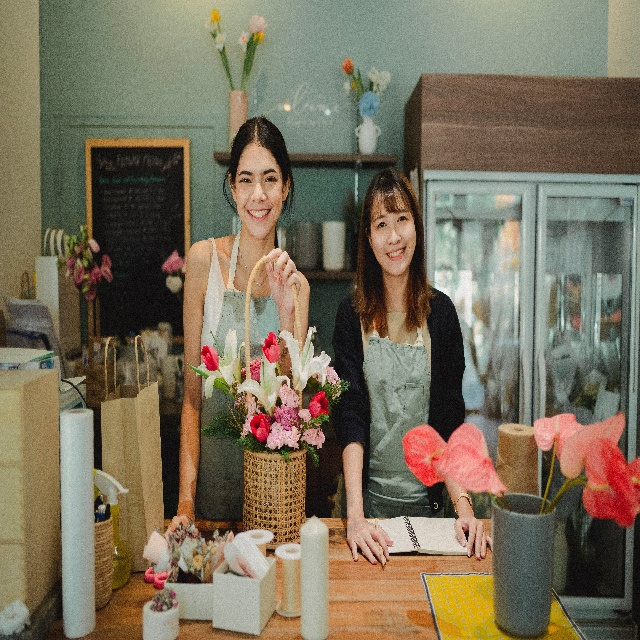Sin_guantes: (346, 513, 392, 570), (267, 252, 300, 317), (454, 516, 490, 558)
